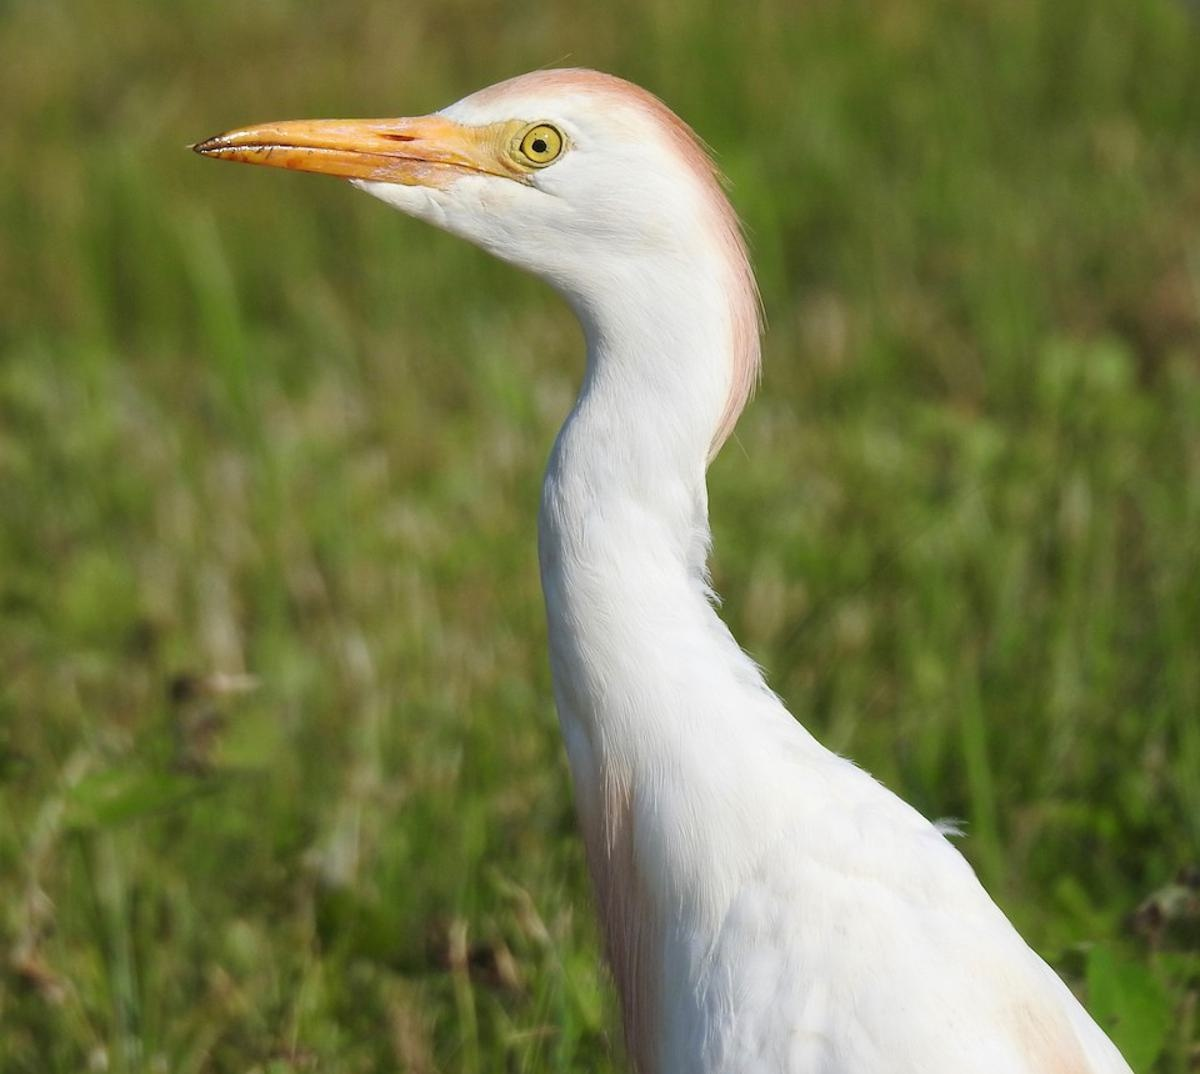egret: (212, 57, 1139, 1074)
